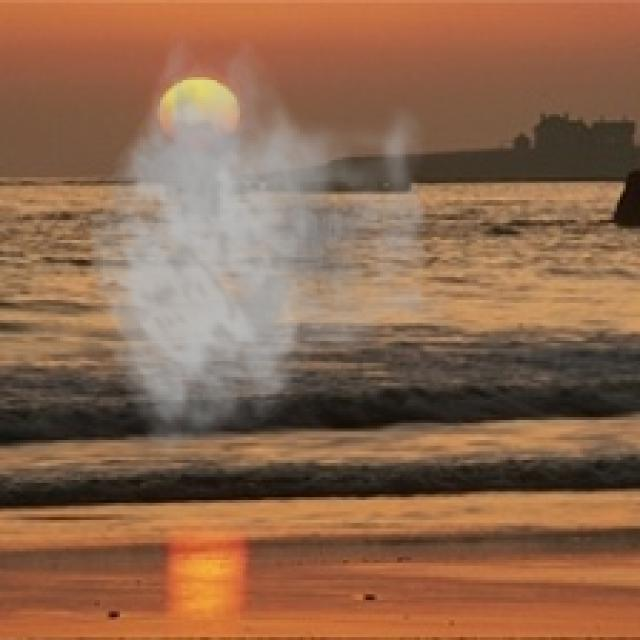smoke: (89, 32, 460, 454)
